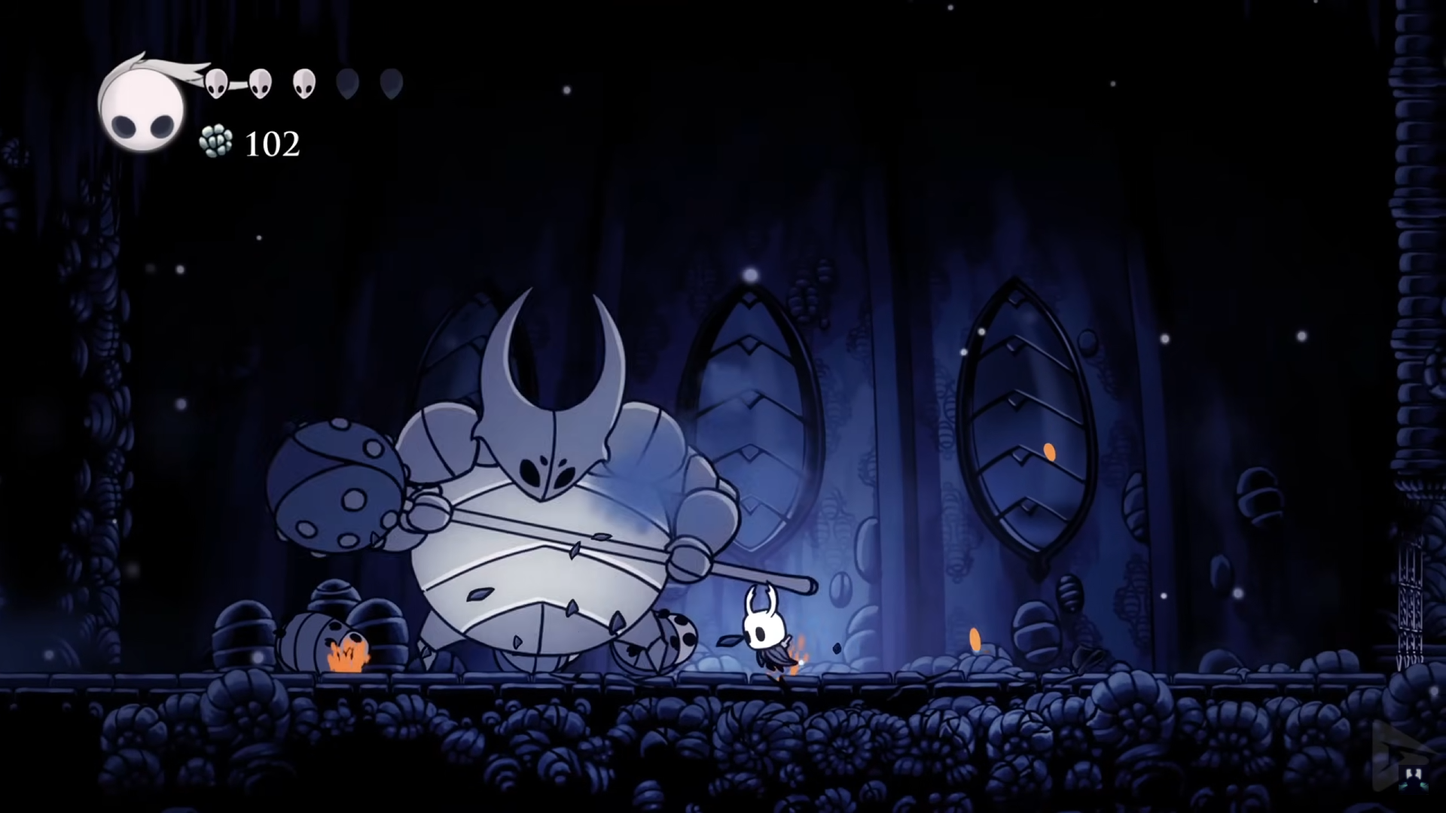HK: (738, 580, 794, 683)
